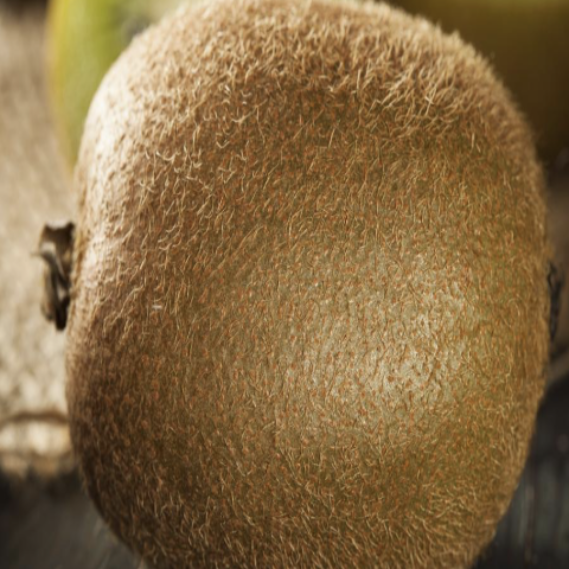kiwi: (12, 2, 567, 568)
